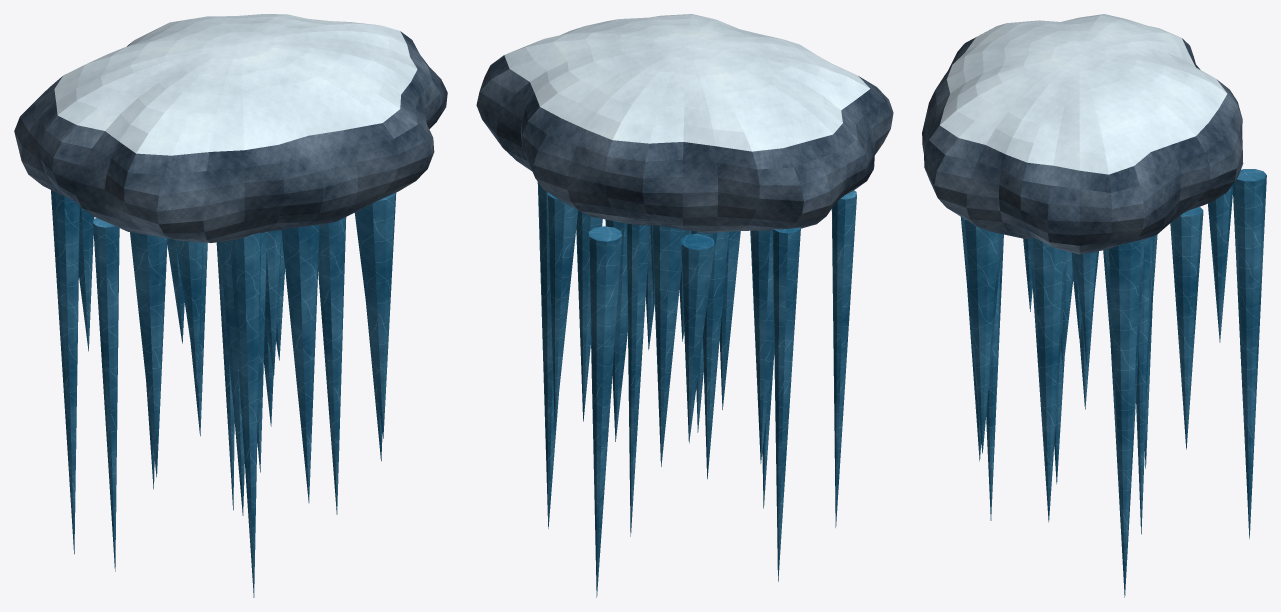
The model's file is SecondRoom_IcicleCanopy.fbx.
The picture shows the model from 3 angles, left to right: view 1: azimuth 30°, elevation 25°; view 2: azimuth 150°, elevation 25°; view 3: azimuth 270°, elevation 25°; orthographic projection. The views are drawn at different scales.
Parts seen in each view (by area): view 1: WO_SecondRoom_IcicleCanopy_LOD0; view 2: WO_SecondRoom_IcicleCanopy_LOD0; view 3: WO_SecondRoom_IcicleCanopy_LOD0.
Boxes of the visible parts, bbox=[...] form: WO_SecondRoom_IcicleCanopy_LOD0: bbox=[14, 14, 447, 597]; WO_SecondRoom_IcicleCanopy_LOD0: bbox=[476, 14, 893, 597]; WO_SecondRoom_IcicleCanopy_LOD0: bbox=[922, 14, 1266, 597].
Size of what is drawn, in the model's own units: 4.64 by 6 by 3.85.
